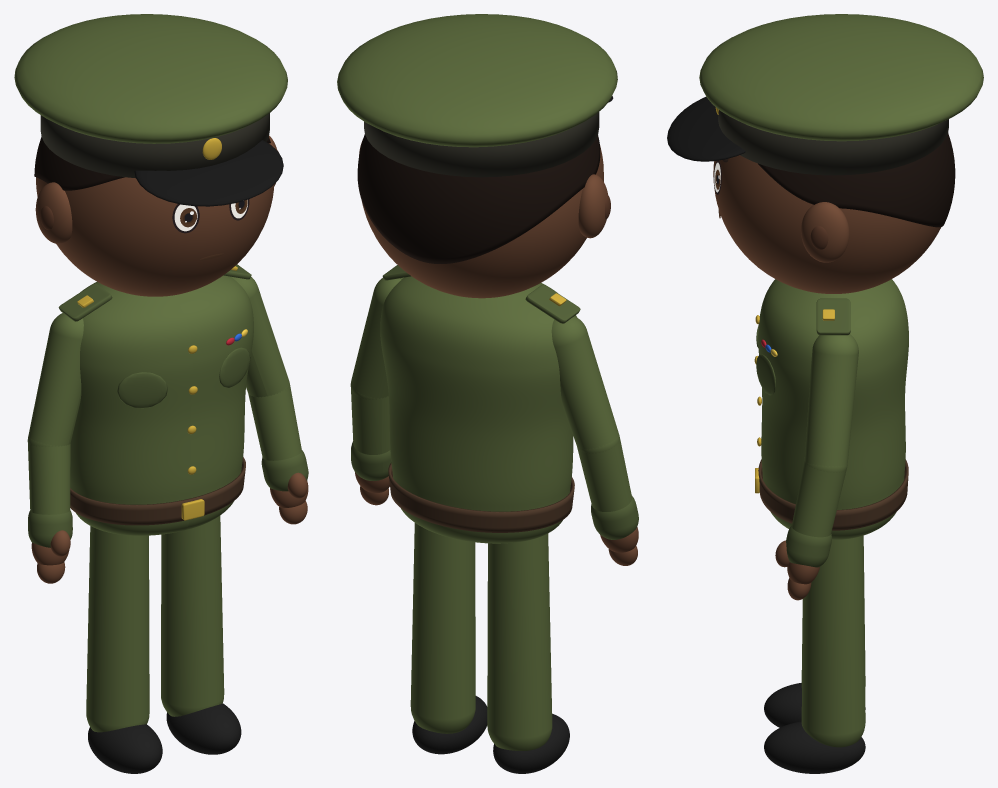
Rendered from officier.glb.
3 views of the same model, side by side, from view 1: azimuth 30°, elevation 25°; view 2: azimuth 150°, elevation 25°; view 3: azimuth 270°, elevation 25° (orthographic). The views are drawn at different scales.
Visible parts, largest first — view 1: officier_romp, officier_pet_bol, officier_hoofd, officier_been_R, officier_been_L, officier_pet_band, officier_pet_klep, officier_bovenarm_R, officier_riem, officier_bovenarm_L, officier_onderarm_R, officier_schoen_R (+9 smaller); view 2: officier_romp, officier_pet_bol, officier_haar, officier_been_R, officier_been_L, officier_hoofd, officier_pet_band, officier_bovenarm_R, officier_riem, officier_bovenarm_L, officier_onderarm_R, officier_onderarm_L (+6 smaller); view 3: officier_pet_bol, officier_romp, officier_hoofd, officier_been_L, officier_haar, officier_pet_band, officier_bovenarm_L, officier_schoen_L, officier_pet_klep, officier_onderarm_L, officier_riem, officier_oor_L (+4 smaller).
Boxes of the visible parts, <box> form: officier_romp: <box>70,275,253,535</box>; officier_pet_bol: <box>14,14,287,143</box>; officier_hoofd: <box>36,143,274,296</box>; officier_been_R: <box>86,526,149,732</box>; officier_been_L: <box>161,516,224,716</box>; officier_pet_band: <box>40,113,269,178</box>; officier_pet_klep: <box>134,140,283,206</box>; officier_bovenarm_R: <box>28,313,83,446</box>; officier_riem: <box>70,457,245,525</box>; officier_bovenarm_L: <box>231,276,288,397</box>; officier_onderarm_R: <box>27,439,70,514</box>; officier_schoen_R: <box>88,724,162,773</box>; officier_romp: <box>380,276,576,543</box>; officier_pet_bol: <box>337,14,617,147</box>; officier_haar: <box>357,134,600,263</box>; officier_been_R: <box>487,533,552,750</box>; officier_been_L: <box>410,523,475,733</box>; officier_hoofd: <box>362,145,603,298</box>; officier_pet_band: <box>364,112,599,177</box>; officier_bovenarm_R: <box>551,316,618,453</box>; officier_riem: <box>388,462,574,532</box>; officier_bovenarm_L: <box>351,277,403,399</box>; officier_onderarm_R: <box>577,438,631,511</box>; officier_onderarm_L: <box>351,388,390,454</box>; officier_pet_bol: <box>699,14,983,141</box>; officier_romp: <box>758,279,908,539</box>; officier_hoofd: <box>713,155,941,293</box>; officier_been_L: <box>801,536,865,747</box>; officier_haar: <box>758,133,955,227</box>; officier_pet_band: <box>718,110,948,175</box>; officier_bovenarm_L: <box>804,334,858,472</box>; officier_schoen_L: <box>764,721,865,773</box>; officier_pet_klep: <box>667,97,745,161</box>; officier_onderarm_L: <box>791,461,846,537</box>; officier_riem: <box>758,459,908,530</box>; officier_oor_L: <box>801,202,849,262</box>.
Size of the model in its own units: 0.7804 by 1.89 by 0.7747.
